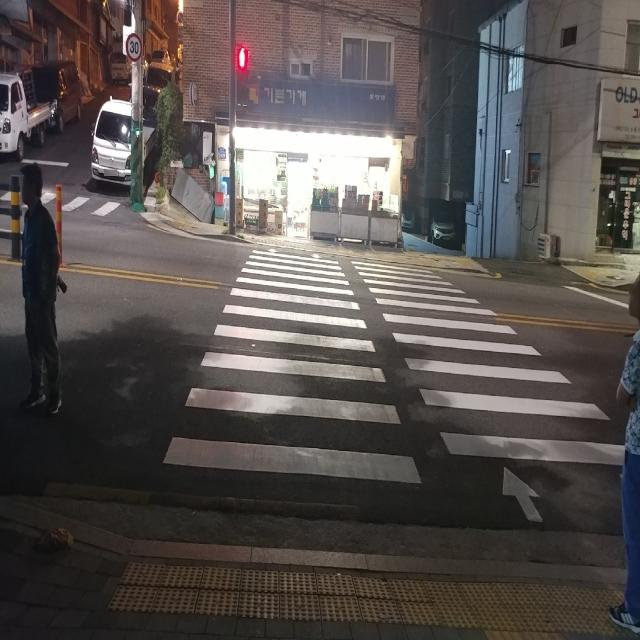빨간불: (236, 47, 248, 106)
횡단보도: (162, 246, 626, 522), (45, 187, 116, 217)
